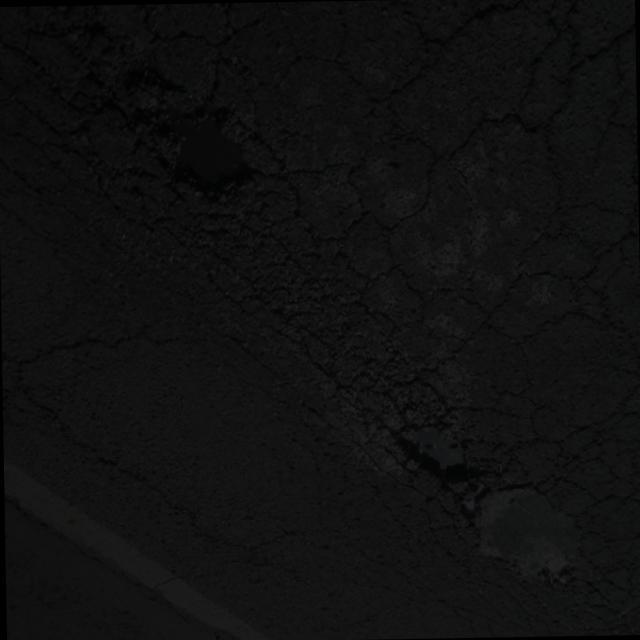pothole: (113, 65, 275, 218), (375, 382, 499, 499)
